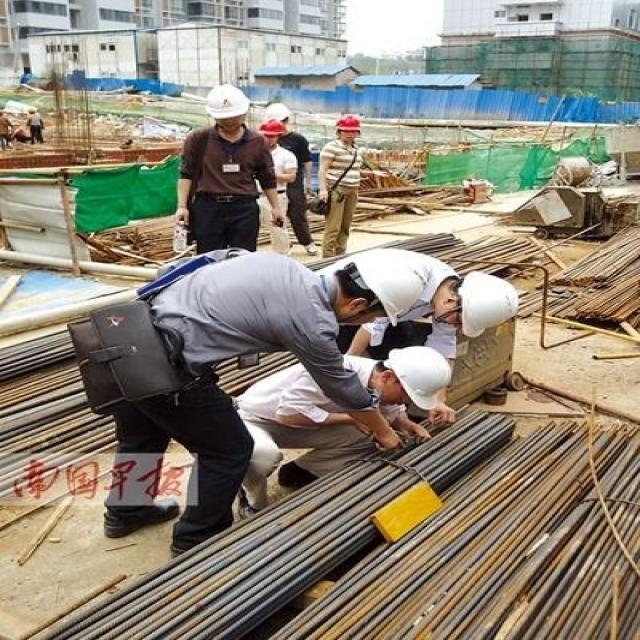Con_Casco: (207, 86, 256, 130)
